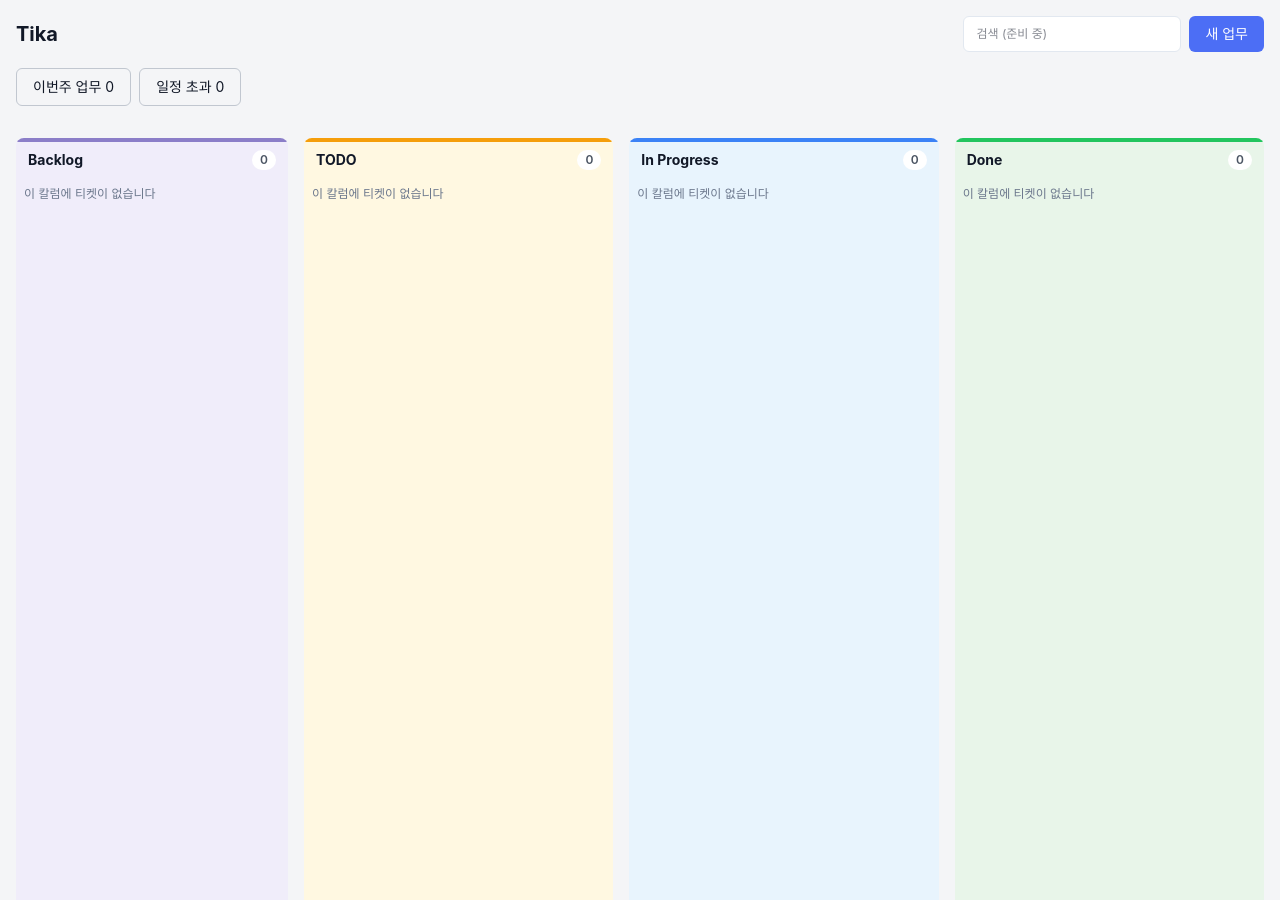
BoardContainer › BoardHeader "새 업무" 클릭 시 TicketForm 생성 모달이 열린다
The image size is (1280, 900).
Click the button "새 업무". click: (1227, 34)
box: [1189,16,1264,52]
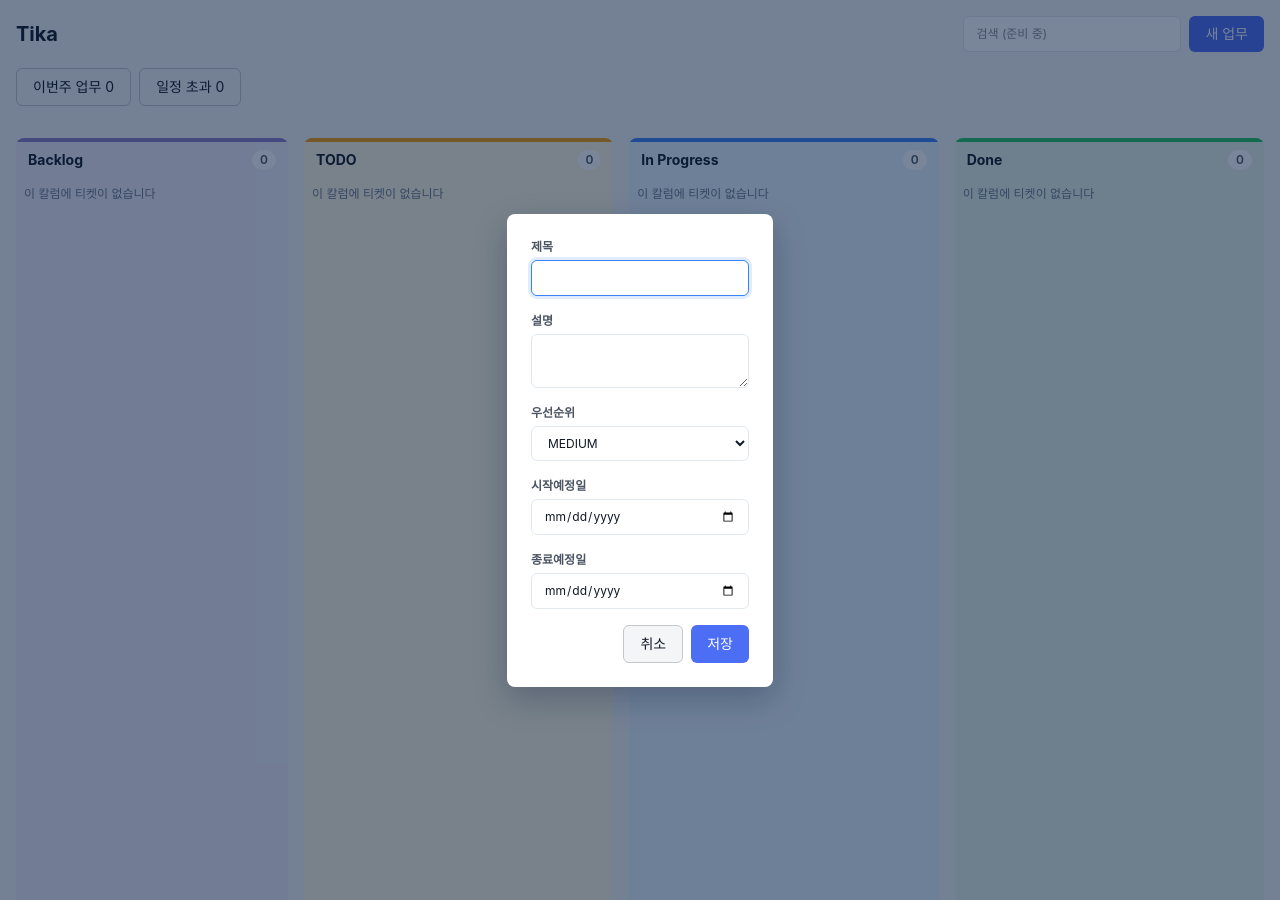
Check: the field labelled "제목" is shown, box [531,260,749,296]
